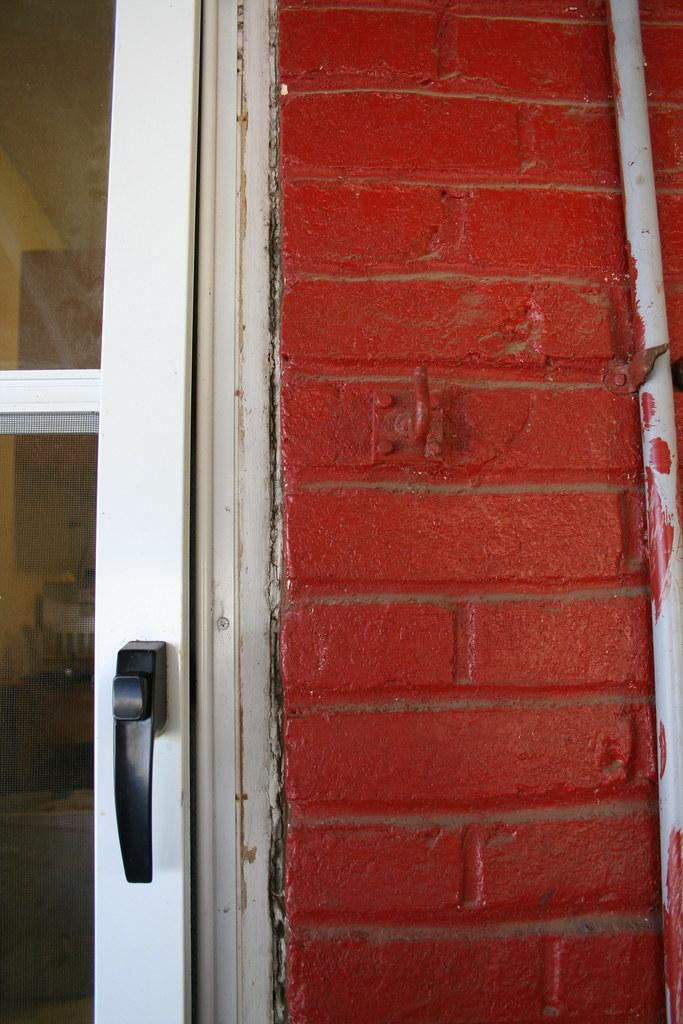door: (1, 1, 275, 1021)
